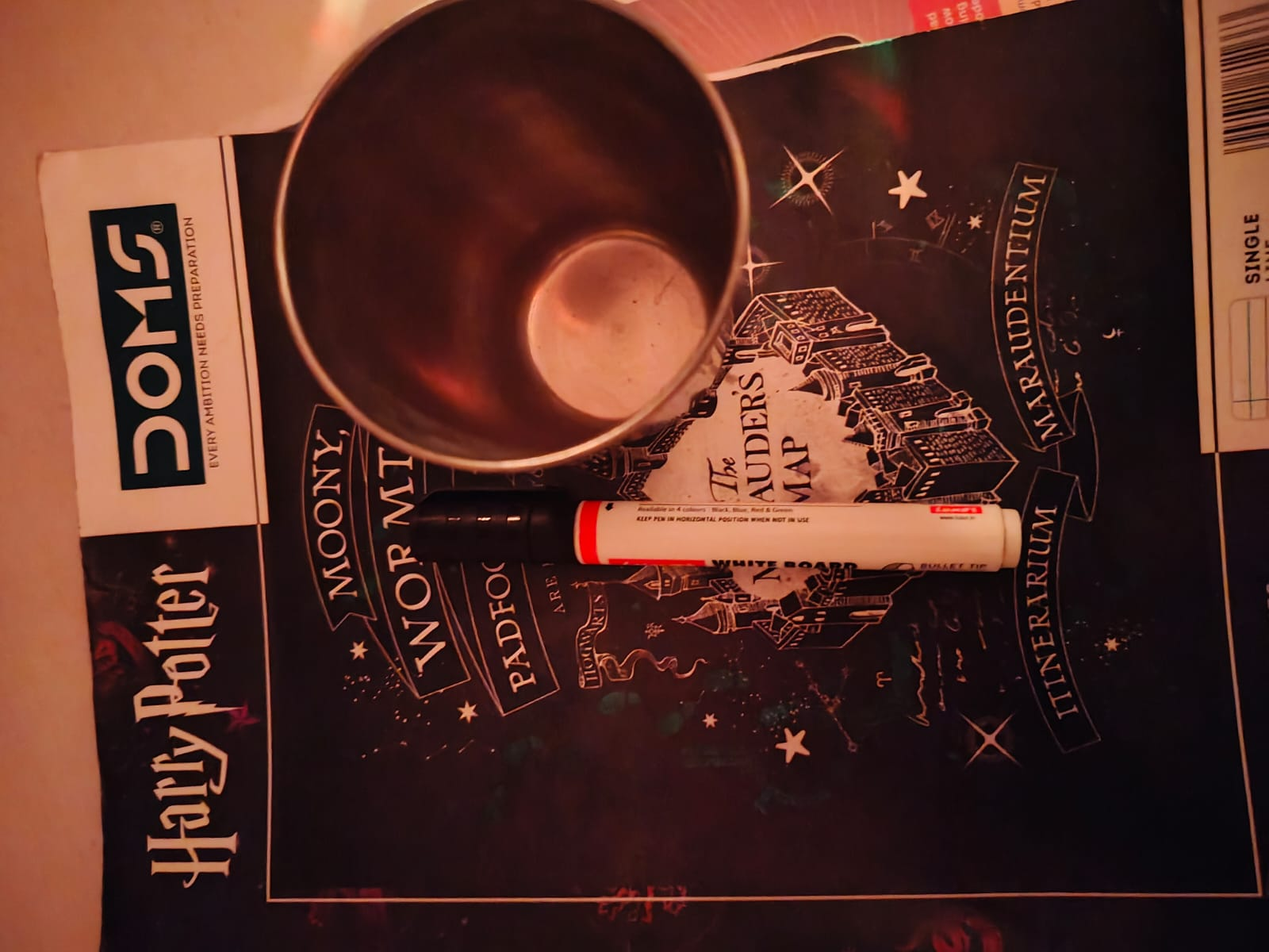case: (387, 473, 1063, 591)
